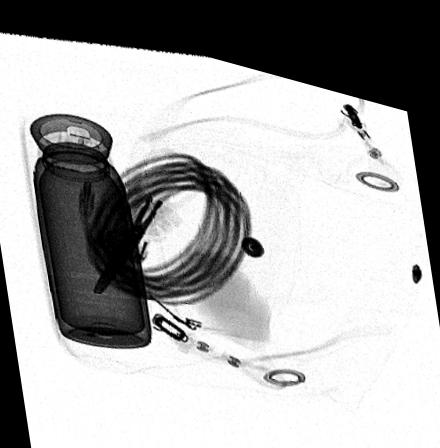Scissors: (92, 149, 203, 289)
